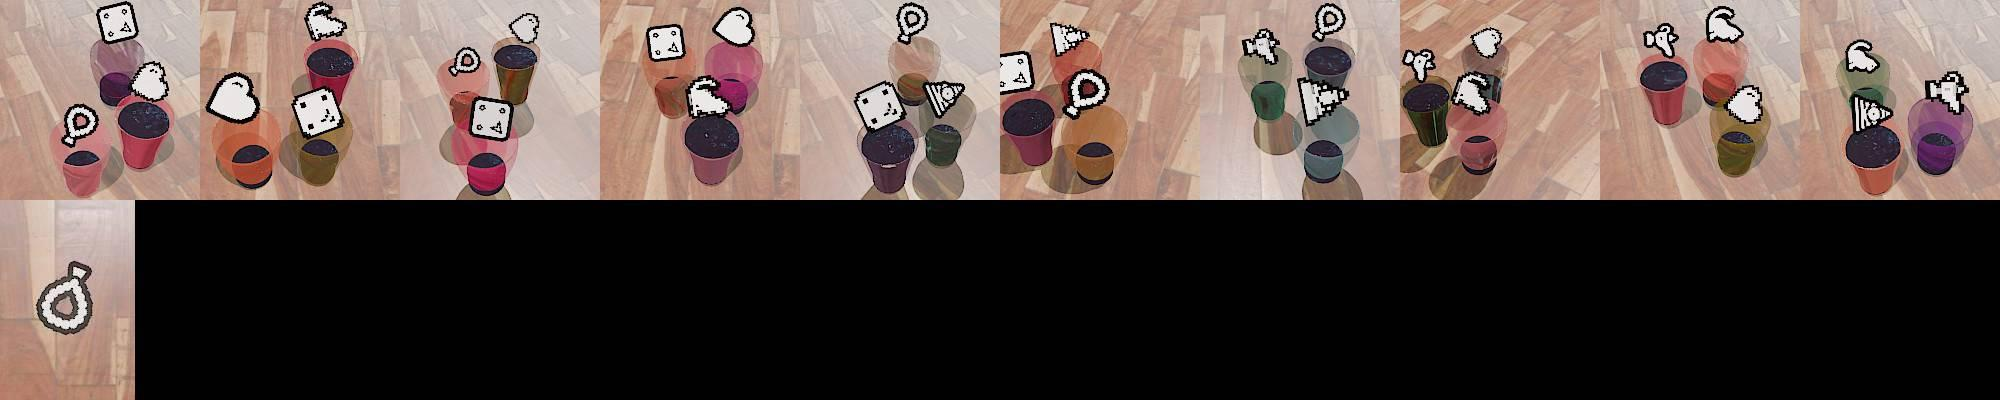icon: (33, 255, 101, 331), (205, 71, 261, 124), (853, 79, 907, 132), (291, 87, 344, 138), (1297, 75, 1349, 125), (1062, 68, 1111, 120), (684, 74, 733, 118), (468, 96, 515, 141), (1923, 71, 1968, 116), (1452, 71, 1496, 115), (96, 1, 139, 45), (923, 78, 968, 118), (302, 1, 347, 42), (712, 6, 756, 47), (1849, 92, 1892, 134), (128, 60, 170, 102), (61, 103, 101, 146), (1241, 27, 1282, 66), (1726, 83, 1765, 124), (999, 50, 1034, 94), (647, 23, 686, 62), (894, 1, 929, 45), (1050, 20, 1089, 57), (1705, 5, 1742, 43), (1311, 3, 1347, 42), (1643, 22, 1680, 59), (1403, 47, 1437, 84), (1844, 39, 1879, 74), (508, 11, 541, 45), (1469, 27, 1503, 59), (448, 46, 481, 76)
